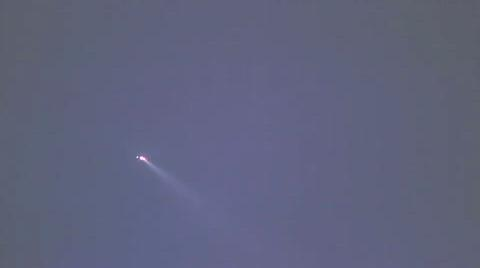Plane: (120, 145, 190, 187)
